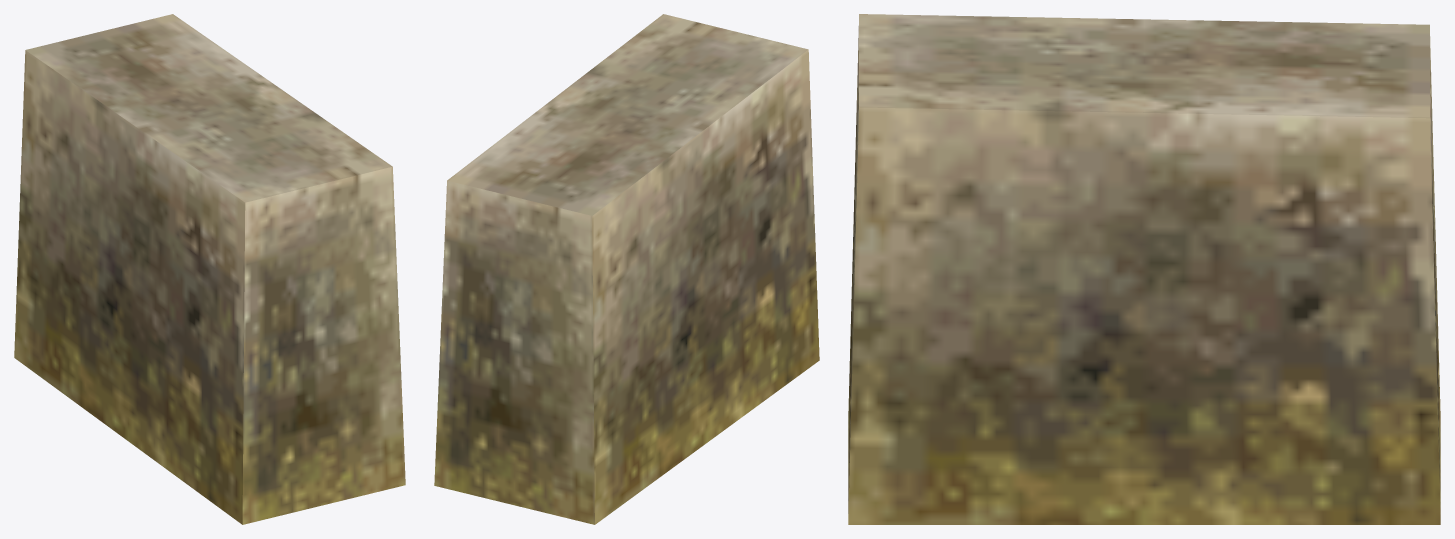
Rendered from OZ_20_mi_block02A.glb.
The picture shows the model from 3 angles, left to right: view 1: azimuth 30°, elevation 25°; view 2: azimuth 150°, elevation 25°; view 3: azimuth 270°, elevation 25°; orthographic projection. The views are drawn at different scales.
Visible parts, largest first — view 1: OM_20_mi_block02A; view 2: OM_20_mi_block02A; view 3: OM_20_mi_block02A.
Boxes of the visible parts, <box> form: OM_20_mi_block02A: <box>14,14,405,524</box>; OM_20_mi_block02A: <box>434,14,819,524</box>; OM_20_mi_block02A: <box>848,14,1440,524</box>.
Size of the model in its own units: 0.4157 by 0.773 by 1.01.
1 material, 1 textured.
